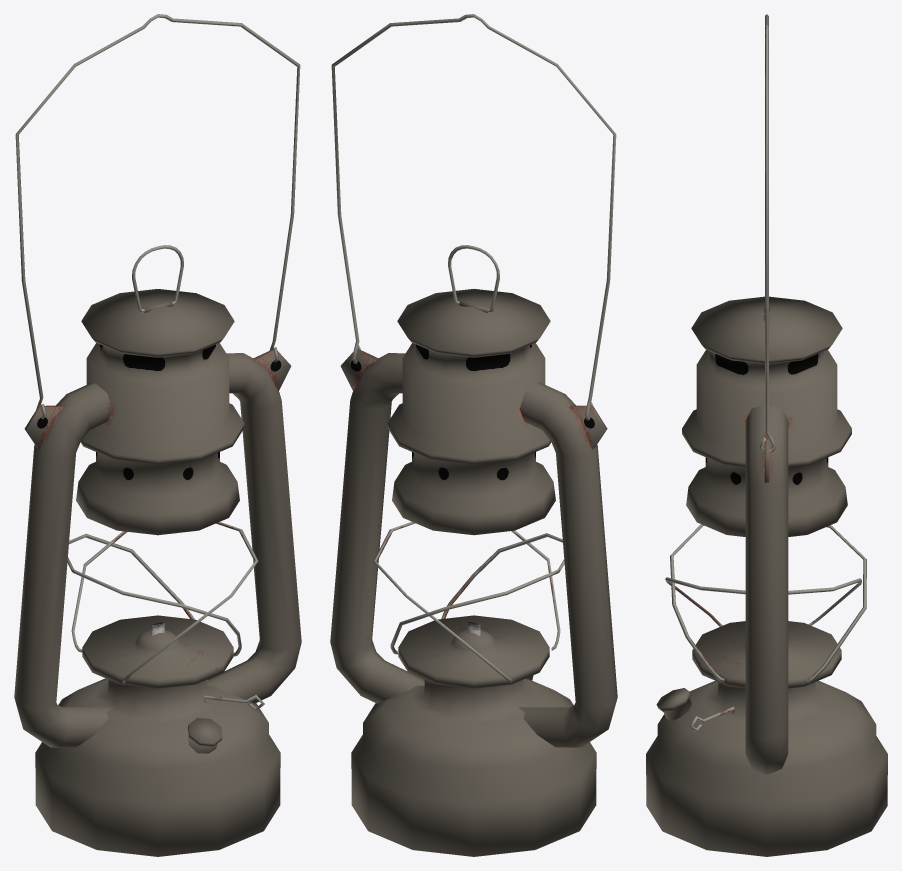
File: lamp.fbx
3 views of the same model, side by side, from view 1: azimuth 30°, elevation 25°; view 2: azimuth 150°, elevation 25°; view 3: azimuth 270°, elevation 25° (orthographic).
Parts seen in each view (by area): view 1: lamp; view 2: lamp; view 3: lamp.
Part boxes in pixels (x1,y1,x2,y2): lamp: (14, 14, 301, 856); lamp: (330, 14, 617, 856); lamp: (646, 14, 887, 856).
Size of the model in its own units: 17.19 by 45.63 by 12.81.
